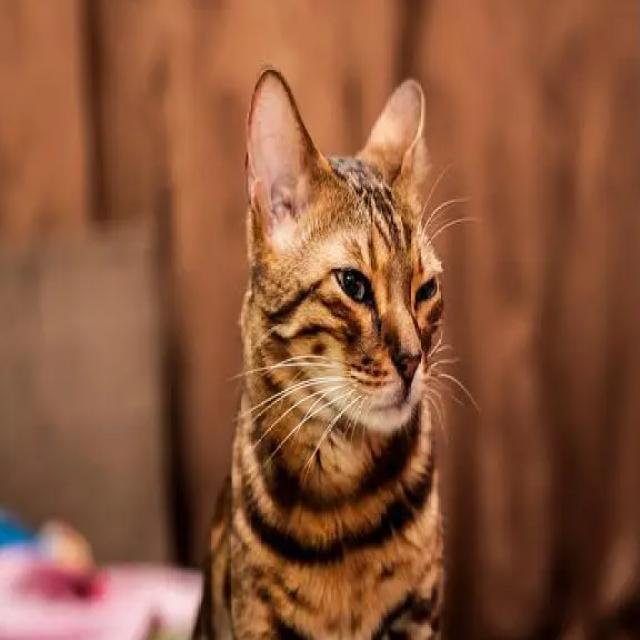Toyger: (171, 60, 451, 640)
